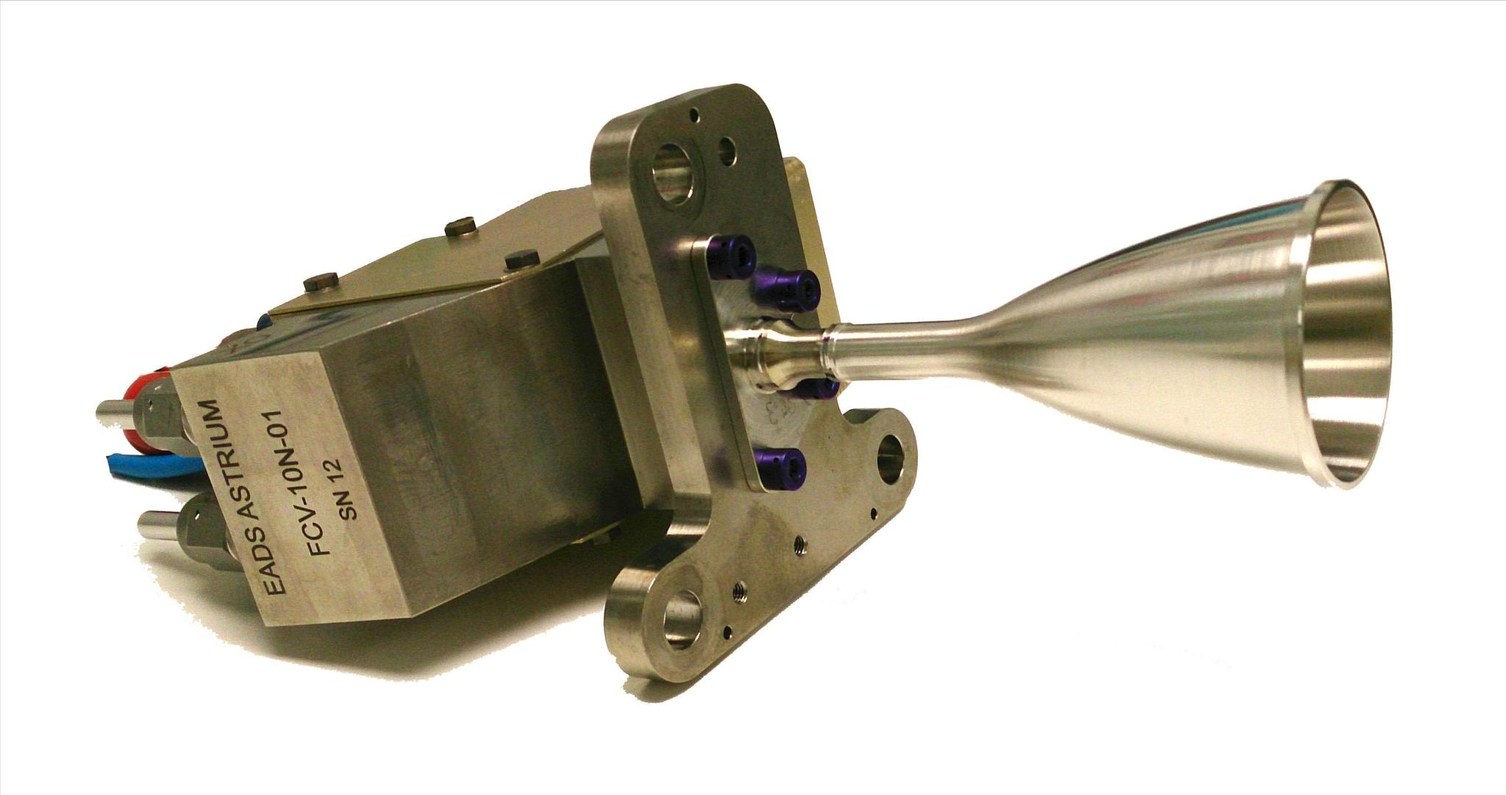thruster: (840, 178, 1389, 487)
